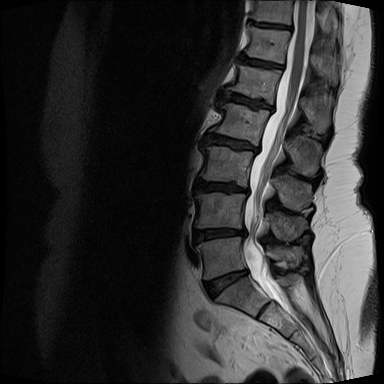Degenerative Disc Disease (DDD): (235, 51, 288, 72), (244, 19, 297, 34)
Lumbar Disc Bulge (LDB): (221, 86, 278, 117), (201, 267, 250, 303), (192, 220, 253, 248), (202, 130, 264, 157), (190, 177, 253, 199)
Spinal Stenosis (SS): (234, 221, 254, 244), (248, 138, 267, 159), (239, 179, 254, 202), (264, 101, 280, 117), (284, 20, 300, 35)
Thoracic Disc Bulge (TDB): (246, 18, 296, 34)
